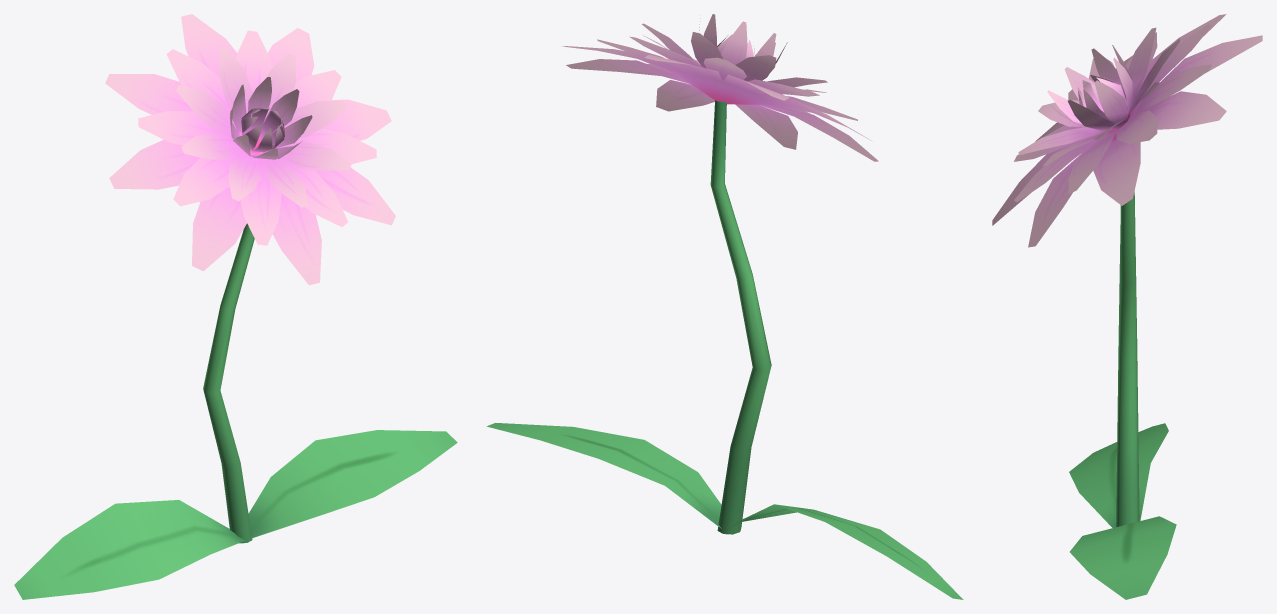
File: Item_Flower_Model.fbx
The picture shows the model from 3 angles, left to right: view 1: azimuth 30°, elevation 25°; view 2: azimuth 150°, elevation 25°; view 3: azimuth 270°, elevation 25°; orthographic projection. The views are drawn at different scales.
Visible parts, largest first — view 1: MDL_Flower; view 2: MDL_Flower; view 3: MDL_Flower.
Boxes of the visible parts, box(x1,y1,x2,y2) form: MDL_Flower: box(14, 14, 457, 599); MDL_Flower: box(486, 14, 963, 599); MDL_Flower: box(992, 14, 1262, 599).
Size of the model in its own units: 32.39 by 34.74 by 16.61.
